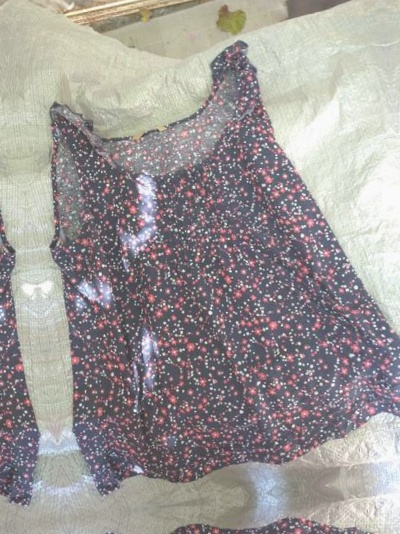Dress: (16, 25, 400, 488), (0, 74, 56, 534), (78, 502, 400, 534), (388, 0, 400, 440)
